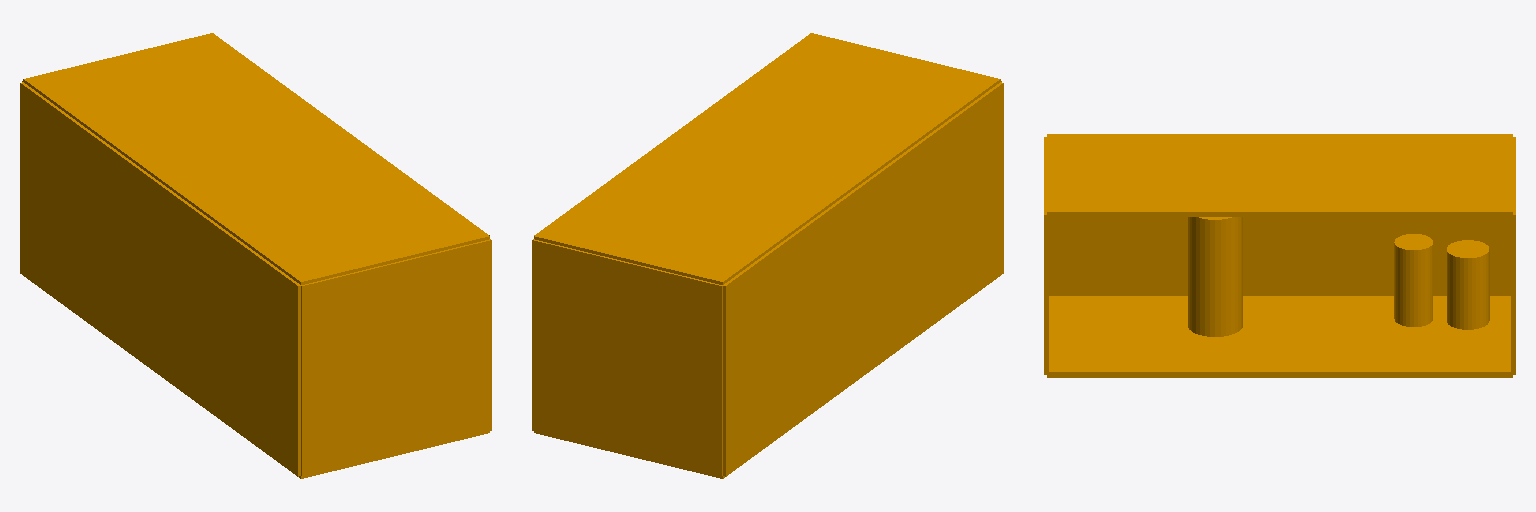
robot.urdf — syn_can_cabinet_2775:
<?xml version="1.0" ?>
<robot name="syn_can_cabinet_2775">
    <link concave="yes" name="base_link">
        <inertial>
            <origin rpy="0 0 0" xyz="0 0 0"/>
            <mass value="0.0"/>
            <inertia ixx="1e-08" ixy="0" ixz="0" iyy="1e-08" iyz="0" izz="1e-08"/>
        </inertial>
        <visual>
            <origin xyz="0 0 0" rpy="0 0 0" />
            <geometry>
                <mesh filename="syn_can_cabinet_2775.obj" scale="1.000000 1.000000 1.000000"/>
            </geometry>         
        </visual>

        <collision concave="yes">
            <origin xyz="0 0 0" rpy="0 0 0"/>
            <geometry>
                <mesh filename="syn_can_cabinet_2775.obj" scale="1.000000 1.000000 1.000000"/>
            </geometry>
        </collision>
    </link>
</robot>
    

--- Facts derived from the render (not from the file) ---
The picture shows the robot from 3 angles, left to right: view 1: azimuth 30°, elevation 25°; view 2: azimuth 150°, elevation 25°; view 3: azimuth 270°, elevation 25°; orthographic projection.
Model syn_can_cabinet_2775 with 1 links and 0 joints (none), rooted at base_link, posed every joint at zero.
Visible links, largest first — view 1: base_link; view 2: base_link; view 3: base_link.
Link boxes in pixels (x1=…): base_link: x1=20, y1=33, x2=491, y2=478; base_link: x1=532, y1=33, x2=1003, y2=478; base_link: x1=1044, y1=134, x2=1515, y2=377.
Bounding box of the posed robot: 0.1977 × 0.4992 × 0.1936 m (x, y, z).
Meshes: 1 distinct files referenced, 1 mesh visuals loaded (1 OBJ).
